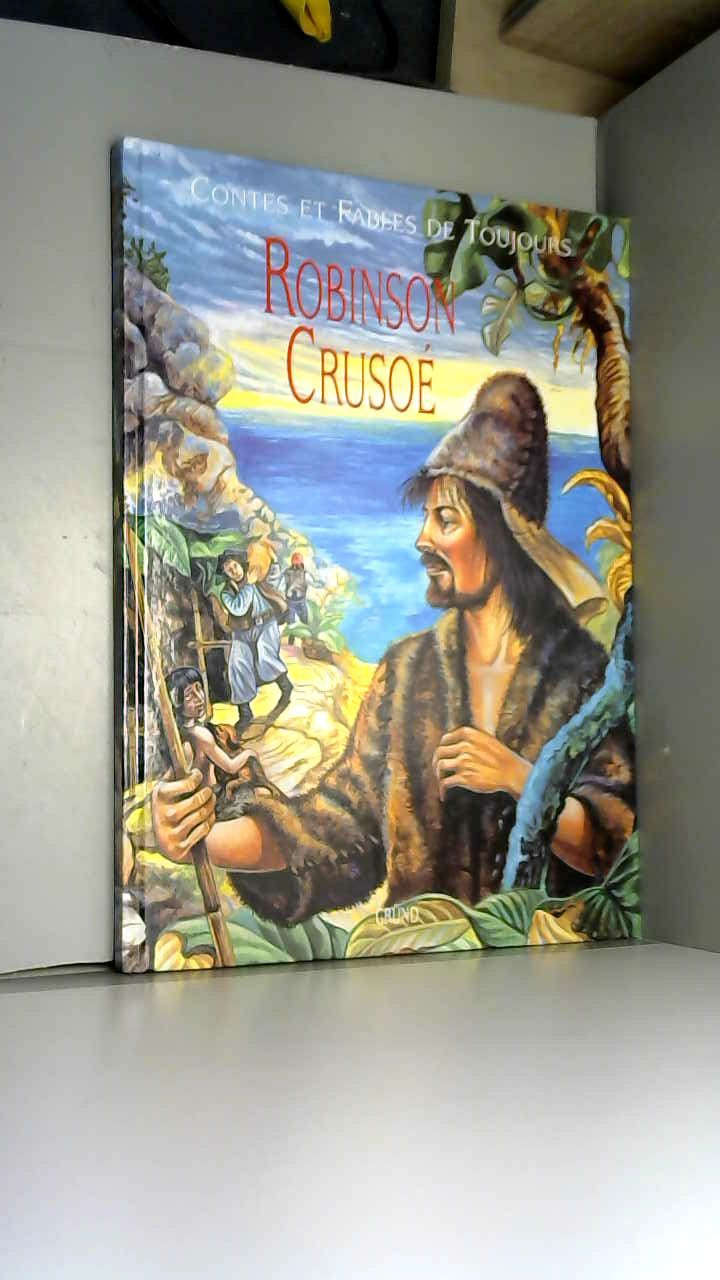book: (70, 102, 689, 1018)
